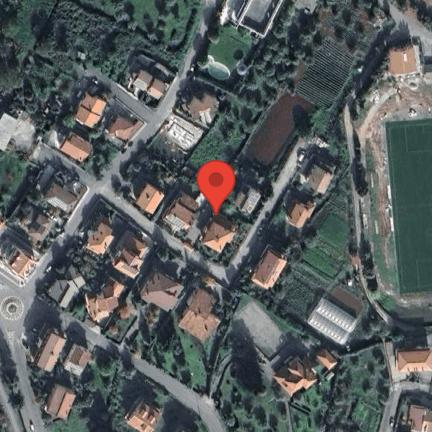area_open: (360, 67, 431, 326), (0, 268, 42, 347), (253, 312, 297, 356)
built: (176, 276, 221, 344), (215, 0, 287, 39), (9, 200, 65, 249), (39, 169, 88, 223), (308, 296, 358, 345), (79, 276, 126, 325), (46, 267, 88, 317), (109, 231, 151, 278), (136, 272, 185, 311), (161, 190, 198, 241), (246, 250, 289, 289), (2, 241, 40, 284), (33, 330, 68, 375), (295, 155, 335, 194), (42, 380, 77, 422), (57, 132, 95, 170), (279, 188, 315, 228), (126, 70, 170, 101), (104, 113, 143, 147), (124, 398, 162, 432), (197, 218, 233, 253), (82, 223, 116, 259), (74, 91, 107, 128), (400, 394, 432, 432), (387, 41, 421, 75), (134, 182, 166, 218), (395, 346, 432, 377), (161, 118, 194, 150), (62, 345, 92, 375), (239, 186, 259, 215), (188, 96, 215, 116), (194, 107, 215, 127), (118, 303, 134, 320)
vegetation_high: (0, 0, 206, 128), (219, 2, 323, 155)
vegetation_low: (233, 0, 399, 354), (111, 133, 251, 266), (48, 357, 212, 432), (208, 295, 293, 432), (287, 345, 394, 432), (129, 301, 213, 397), (183, 24, 251, 102), (1, 154, 40, 215), (0, 343, 21, 408), (66, 251, 105, 276)
